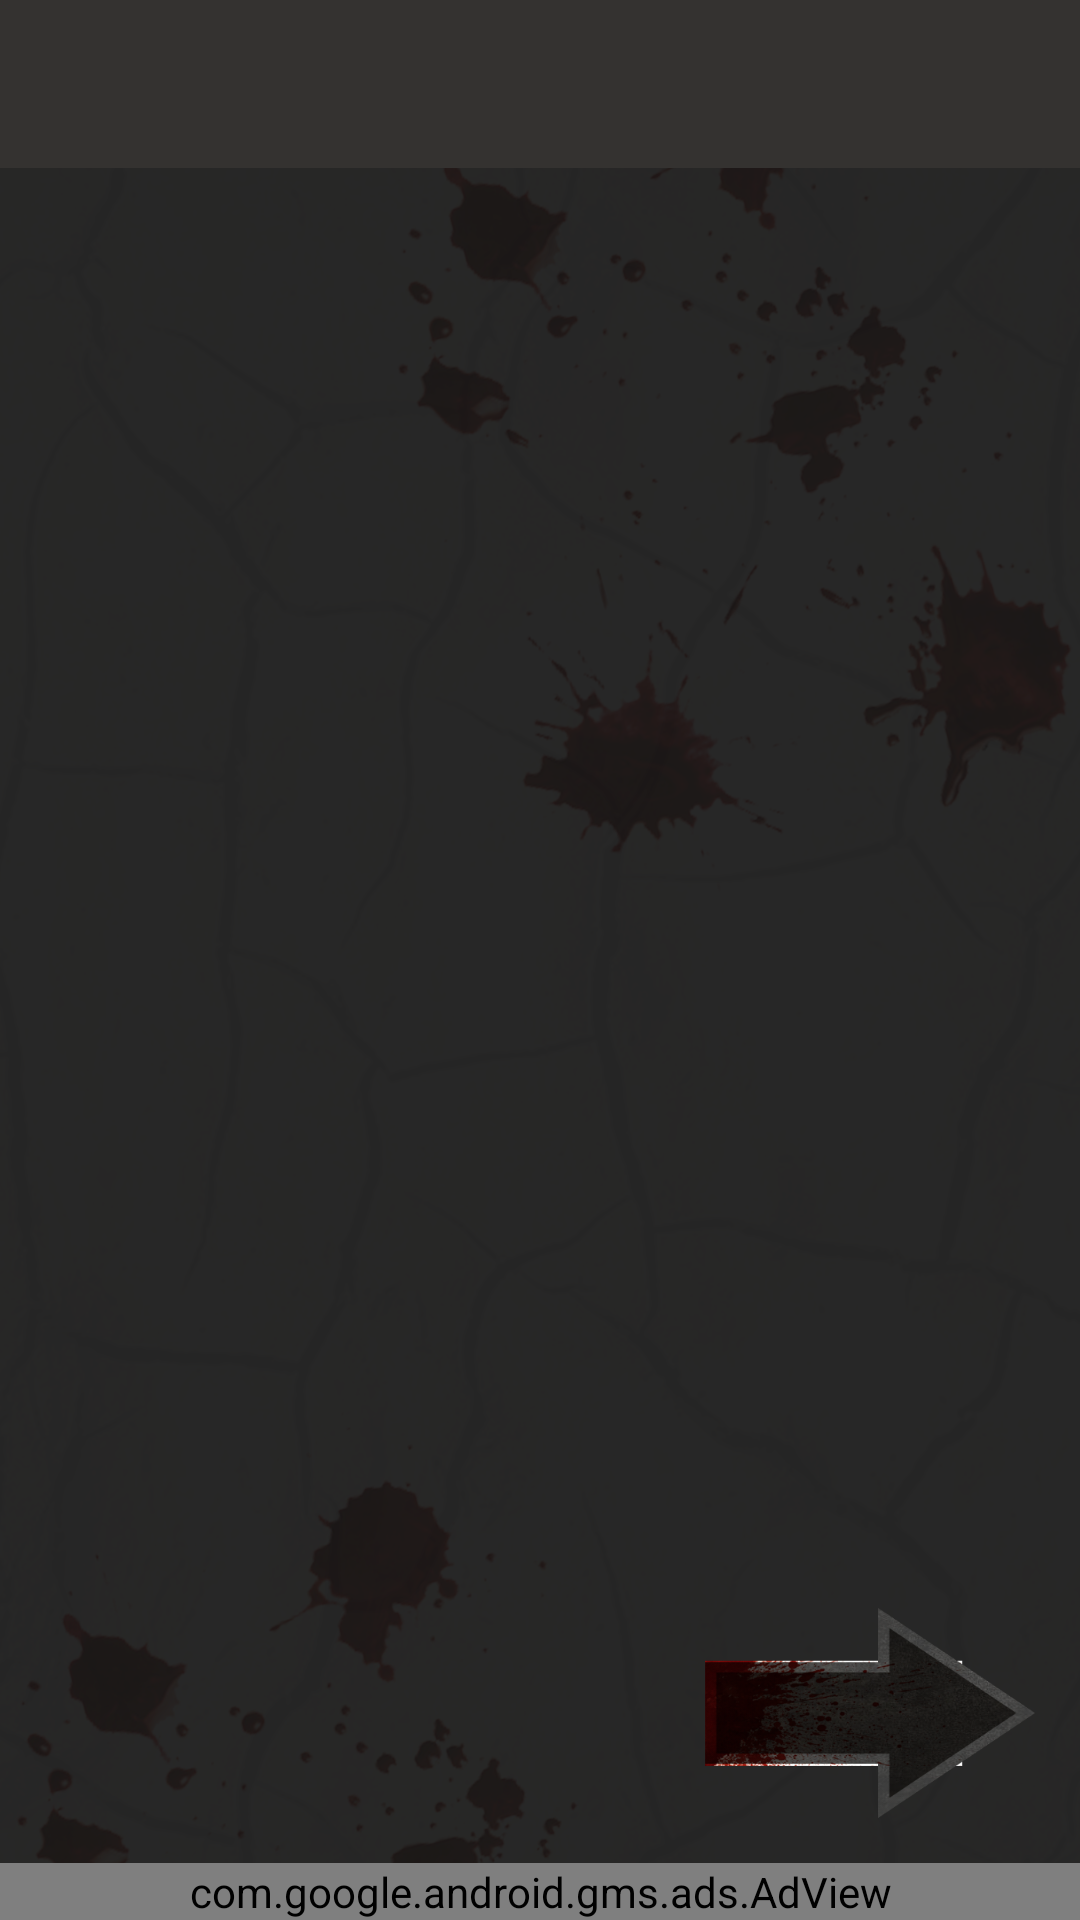

Locate icon controls on the screen. Image size 1080px×1920px, boxes as (x1, y1, x2, y2).
arrownext: (705, 1609, 1034, 1817)
